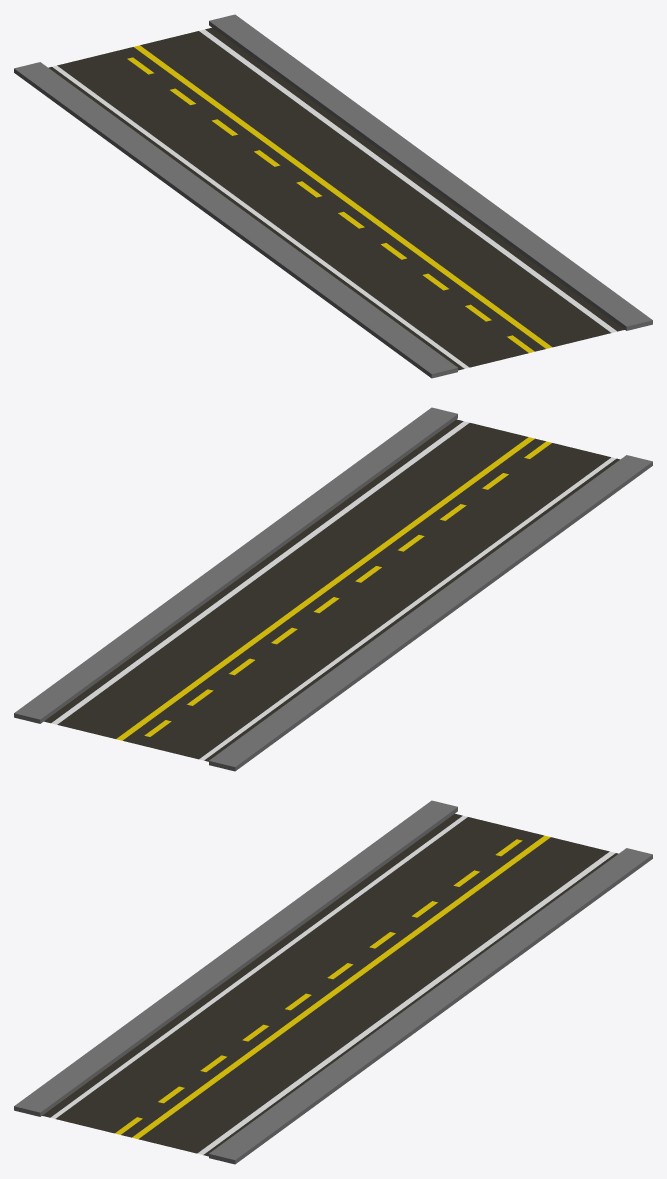
Rendered from road.fbx.
3 views of the same model, one above another, from view 1: azimuth 30°, elevation 25°; view 2: azimuth 150°, elevation 25°; view 3: azimuth 330°, elevation 25° (orthographic).
Parts seen in each view (by area): view 1: pCube3; view 2: pCube3; view 3: pCube3.
Boxes of the visible parts, x1,y1,x2,y2 form: pCube3: (14,14,652,378); pCube3: (14,407,652,771); pCube3: (14,800,652,1164).
Size of the model in its own units: 36.33 by 0.6822 by 119.
